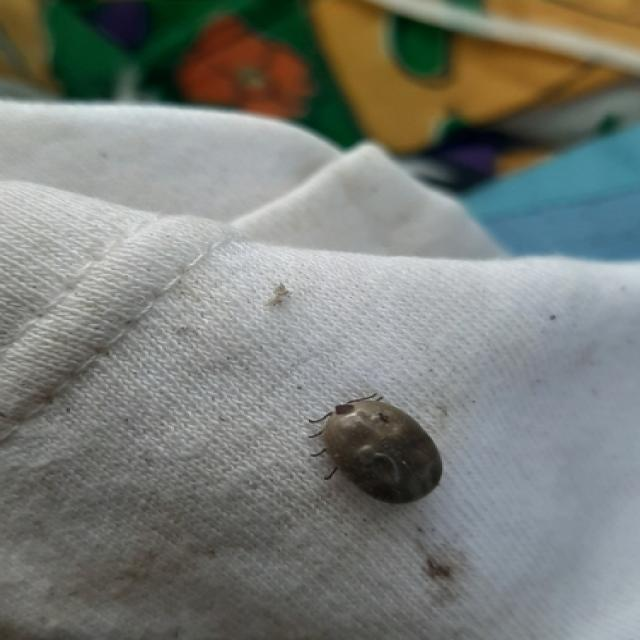Rhipicephalus Sanguineus-F-Fed: (311, 393, 444, 508)
